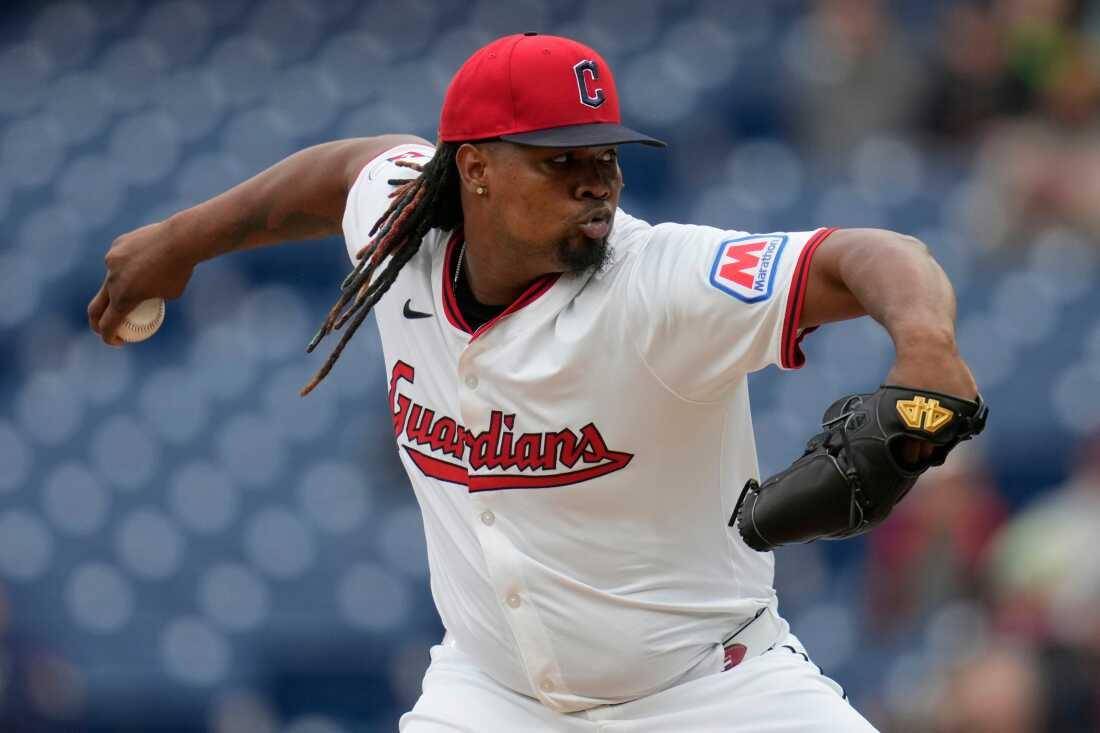baseball: (110, 293, 167, 341)
